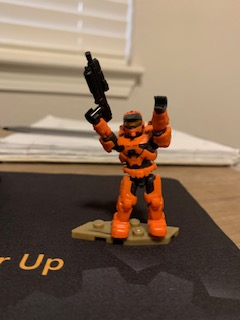rifle: (80, 48, 117, 128)
spartan: (86, 95, 174, 240)
up: (85, 95, 174, 169)
